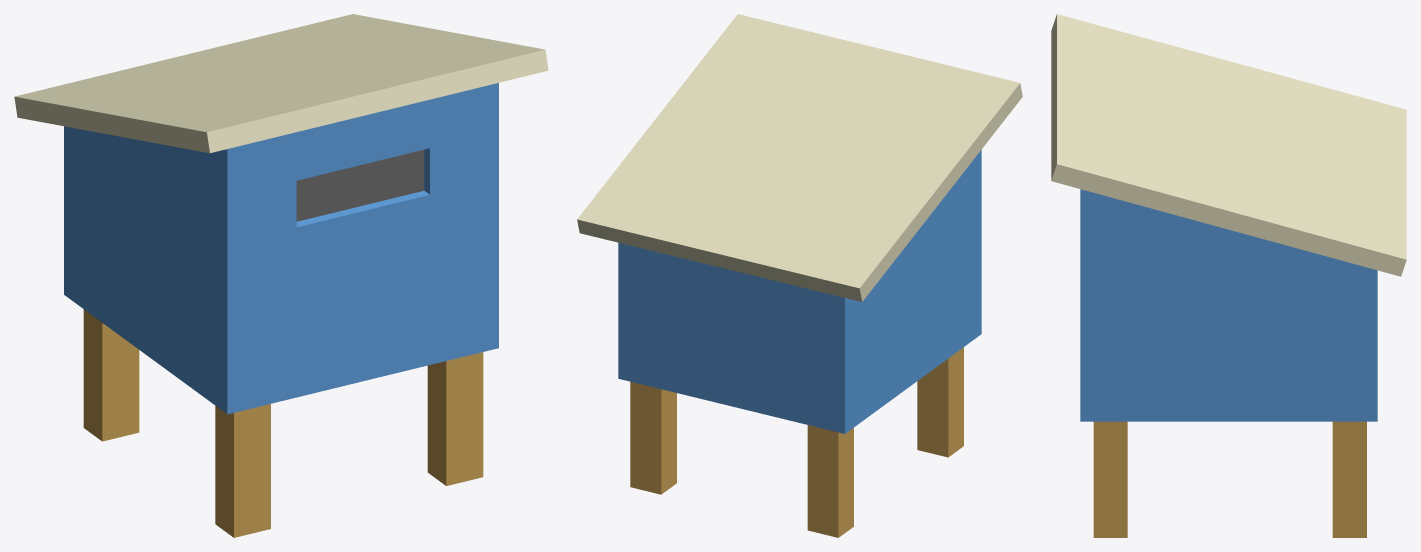
The model's file is hive_6.fbx.
3 views of the same model, side by side, from view 1: azimuth 30°, elevation 25°; view 2: azimuth 150°, elevation 25°; view 3: azimuth 270°, elevation 25° (orthographic). The views are drawn at different scales.
Parts seen in each view (by area): view 1: Cube_12; view 2: Cube_12; view 3: Cube_12.
Boxes of the visible parts, x1,y1,x2,y2 form: Cube_12: (14, 14, 548, 537); Cube_12: (577, 14, 1022, 537); Cube_12: (1051, 14, 1406, 537).
Size of the model in its own units: 82.26 by 100 by 82.34.
